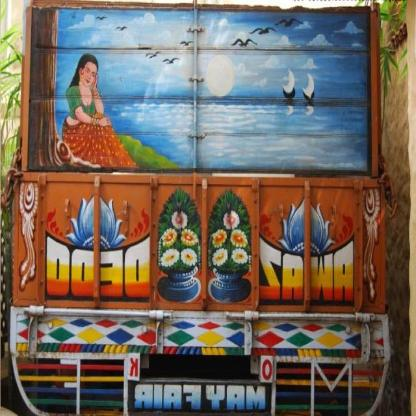truck: (12, 2, 388, 414)
